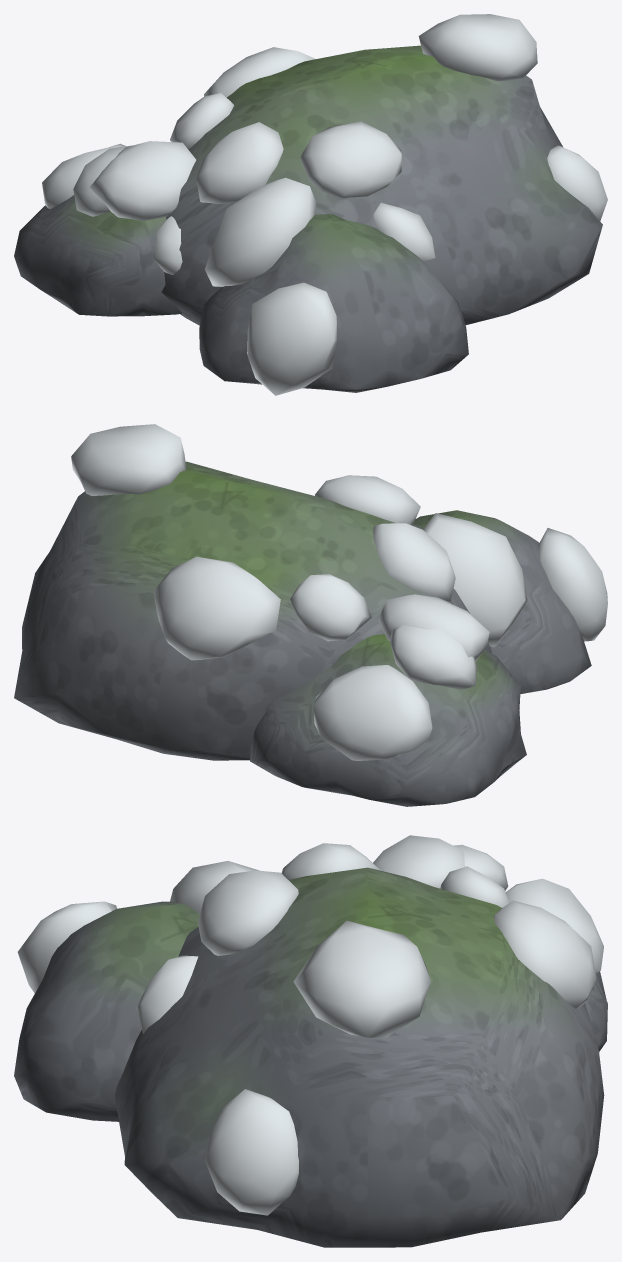
The model's file is ore_platinum_cluster.glb.
The picture shows the model from 3 angles, top to bottom: view 1: azimuth 30°, elevation 25°; view 2: azimuth 150°, elevation 25°; view 3: azimuth 270°, elevation 25°; orthographic projection. The views are drawn at different scales.
Visible parts, largest first — view 1: ore_platinum_stone, ore_platinum; view 2: ore_platinum_stone, ore_platinum; view 3: ore_platinum_stone, ore_platinum.
Boxes of the visible parts, x1=… form: ore_platinum_stone: x1=14, y1=45, x2=602, y2=392; ore_platinum: x1=42, y1=14, x2=607, y2=395; ore_platinum_stone: x1=14, y1=461, x2=591, y2=806; ore_platinum: x1=71, y1=424, x2=607, y2=760; ore_platinum_stone: x1=14, y1=867, x2=607, y2=1247; ore_platinum: x1=17, y1=835, x2=603, y2=1215.
Size of the model in its own units: 1.92 by 0.8487 by 1.67.
Materials: 2 (1 with a texture image).
